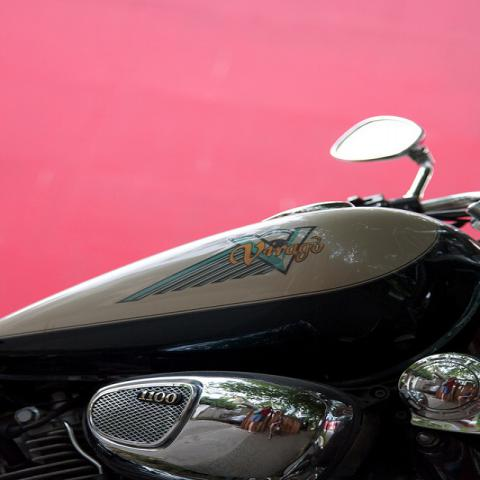motorcycle: (1, 115, 479, 476)
